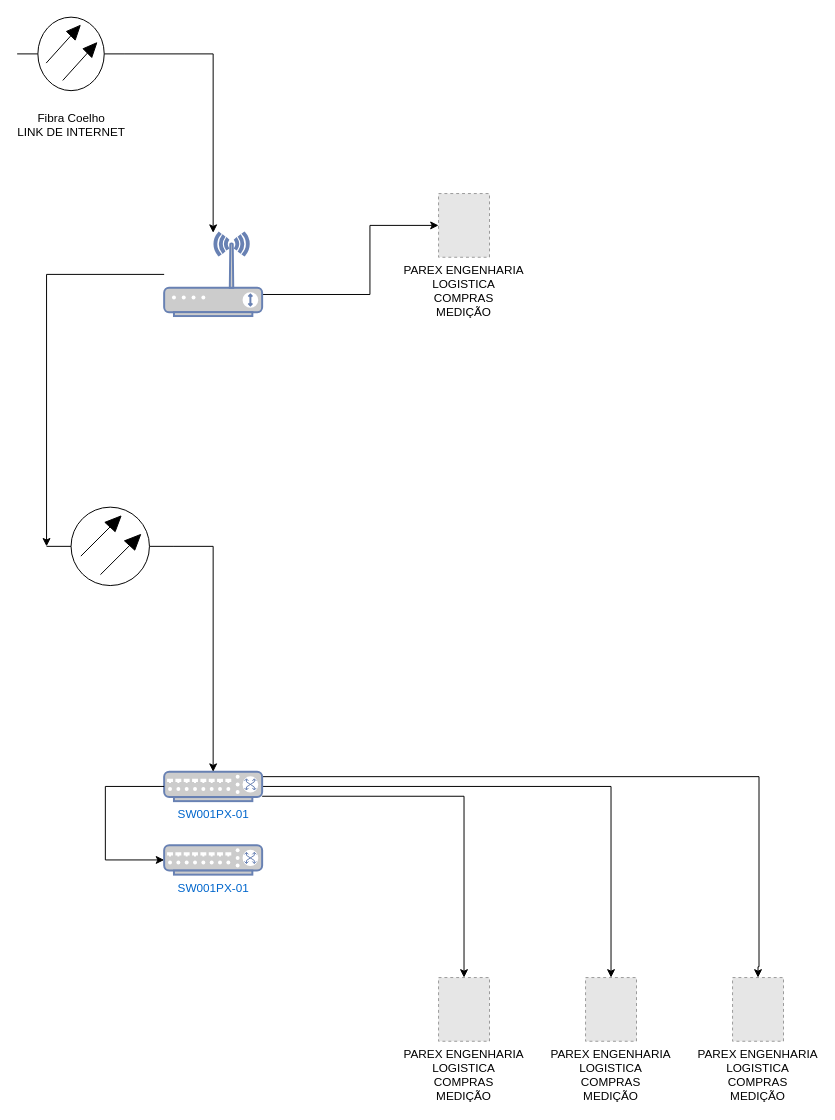
This 835x1120 diagram has some shape labels left out. Grey dashed boxes stand in for pictures. Each missing label, with the centre of its shape:
"DROP DE FIBRA DP PARA ORÇAMENTOS" belongs at point (110, 546).
"INTELBRAS" belongs at point (213, 274).
